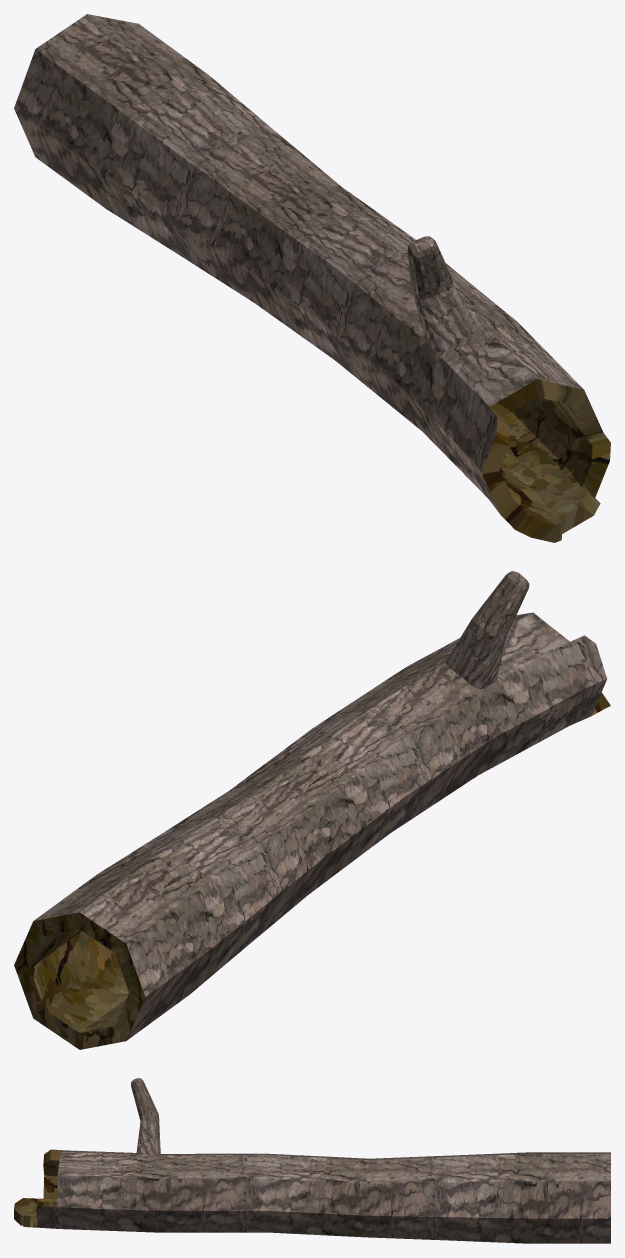
Rendered from Hollow Log.fbx.
3 views of the same model, one above another, from view 1: azimuth 30°, elevation 25°; view 2: azimuth 150°, elevation 25°; view 3: azimuth 270°, elevation 25° (orthographic). The views are drawn at different scales.
Parts seen in each view (by area): view 1: Hollow Log; view 2: Hollow Log; view 3: Hollow Log.
Boxes of the visible parts, x1,y1,x2,y2 form: Hollow Log: (14, 14, 610, 542); Hollow Log: (14, 571, 610, 1049); Hollow Log: (14, 1078, 610, 1243).
Bounding box in the file's own units: 269 × 376 × 1424.
2 materials, 2 textured.
